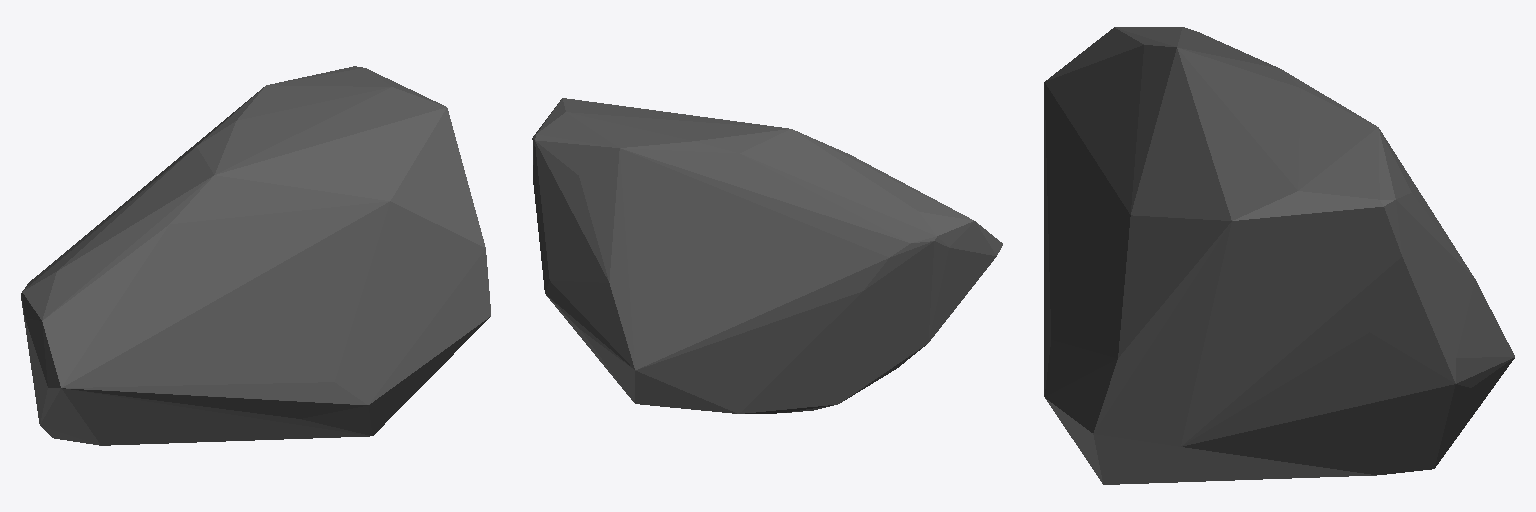
URDF robot description (35_160):
<?xml version="1.0"?>
<robot name="35_160">
  <link name="link">
    <contact>
      <lateral_friction value="0.6"/>
    </contact>
    <inertial>
      <origin xyz="0.006489189839894186 -0.00476686444400222 -0.0011883256275415678" rpy="0 0 0"/>
      <mass value = "0.5357575579804876"/>
      <inertia ixx="0.00023650554679235434" ixy="4.417719513687677e-05" ixz="2.4990505419196264e-05" iyy="0.0004045736183190143" iyz="-5.12855622616237e-06" izz="0.00040765933695037477" />
    </inertial>
    <visual name="visual">
      <geometry>
        <mesh filename="35_160.obj"/>
      </geometry>
      <material name="material">
        <color rgba="0.4032749244474987 0.4032749244474987 0.4032749244474987 1.0"/>
      </material>
    </visual>
    <collision name="collision">
      <geometry>
        <mesh filename="35_160.obj"/>
      </geometry>
    </collision>
  </link>
</robot>

--- Render facts (derived) ---
Views: 3 orthographic renders of the robot side by side, from view 1: azimuth 30°, elevation 25°; view 2: azimuth 150°, elevation 25°; view 3: azimuth 270°, elevation 25°.
Robot: 35_160 — 1 links, 0 joints (none); root link link; default pose: all joints at 0.
Links seen in each view (by area): view 1: link; view 2: link; view 3: link.
Boxes of the visible links, x1,y1,x2,y2 form: link: (21,66,490,445); link: (532,98,1002,413); link: (1044,27,1514,484).
Bounding box of the posed robot: 0.1047 × 0.0712 × 0.0615 m (x, y, z).
Meshes: 1 distinct files referenced, 1 mesh visuals loaded (1 OBJ).
